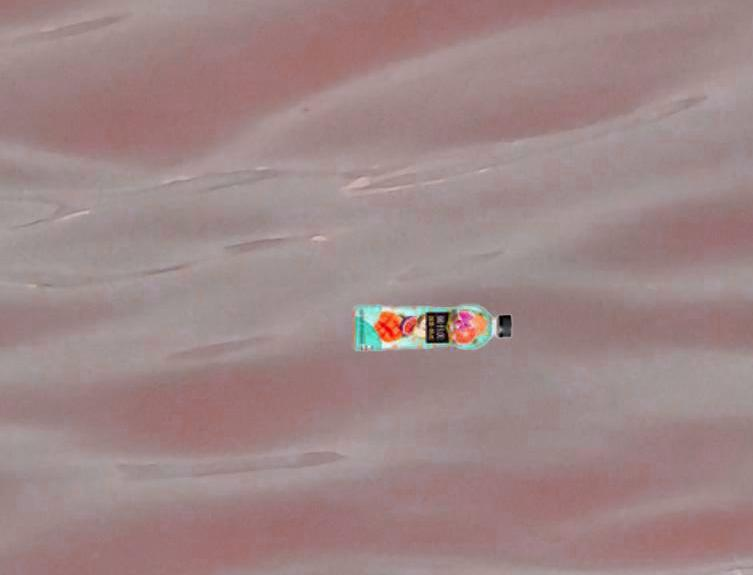Plastic: (348, 301, 513, 354)
